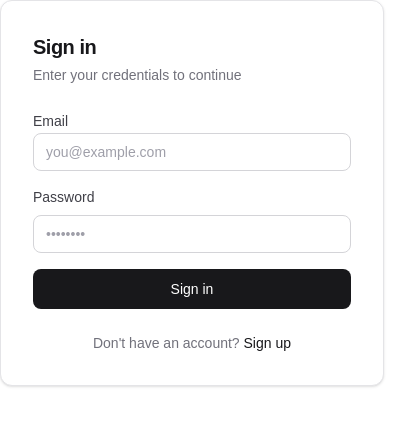
AuthForm › shows the error returned by the auth client
The width and height of the screenshot is (401, 440).
In the field labelled "Email": (192, 152) left=33, top=133, right=351, bottom=171, type "jane@example.com"
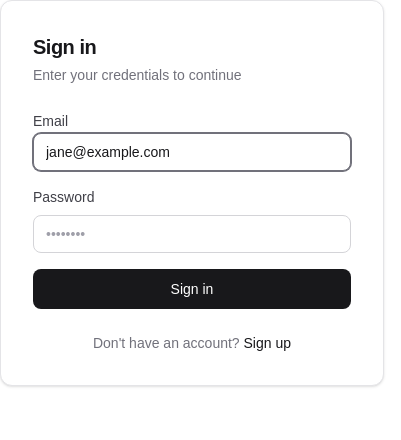
In the password field labelled "Password": (192, 234) left=33, top=215, right=351, bottom=253, type "wrong"
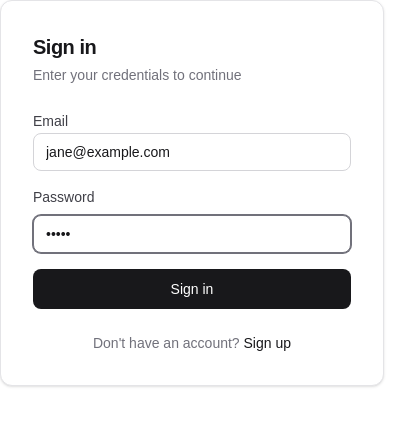
Click the button "Sign in": (192, 289) left=33, top=269, right=351, bottom=309
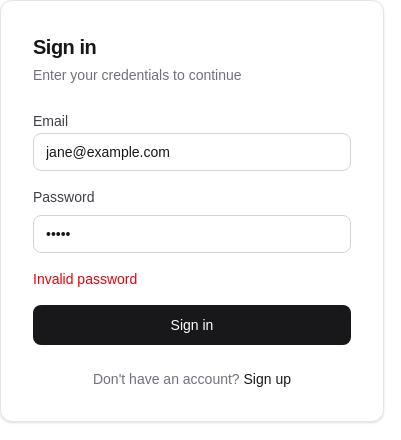
Check: the text "Invalid password" is shown, box left=33, top=271, right=137, bottom=287
